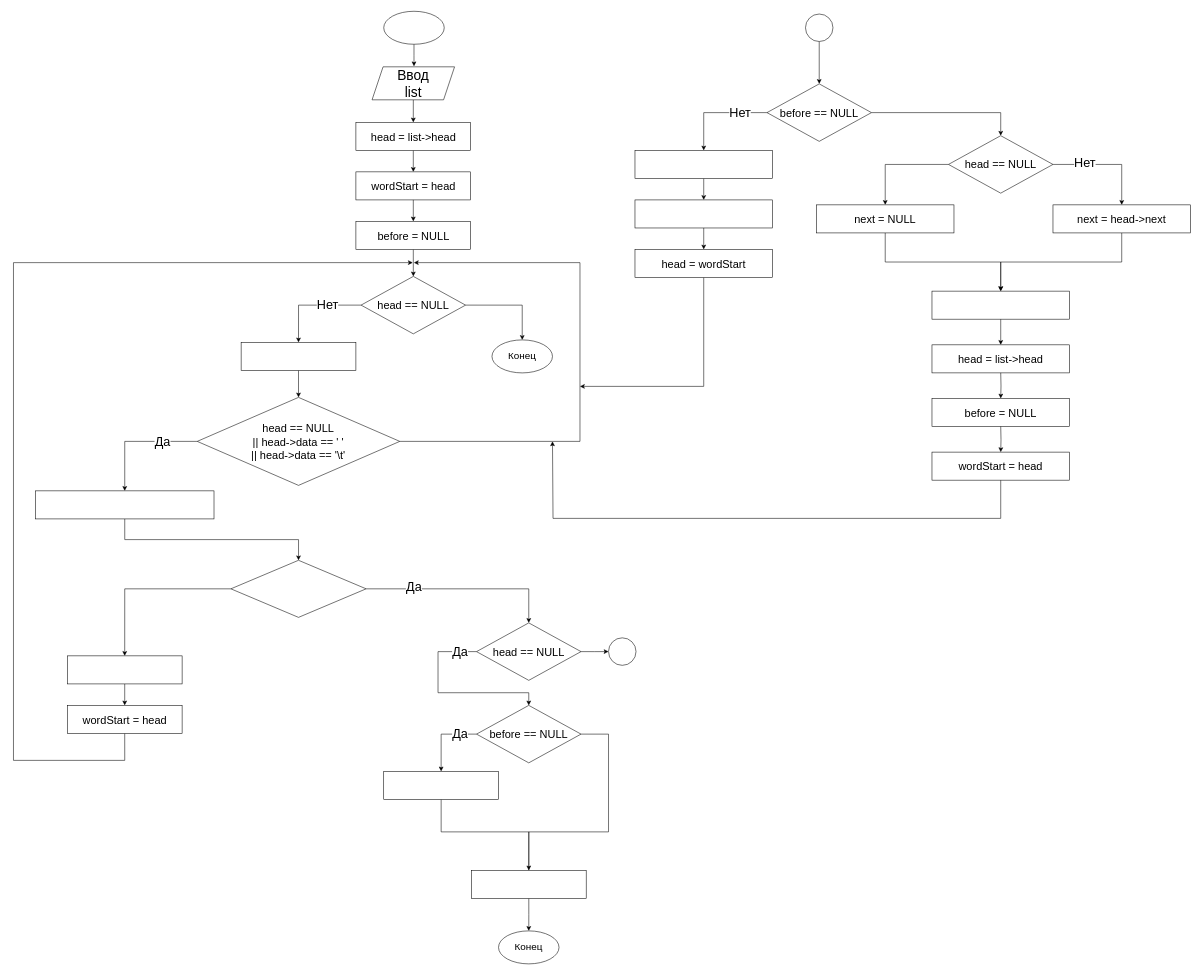
Image size: 1200x974. Some labels were removed from this diagram. The centre of each missing label's shape, as x and y in pixels:
before = head: pixel 124 669
before->next = head->next: pixel 703 164
before->next = NULL: pixel 528 884
delete vowels: pixel 413 27
head = head->next: pixel 298 356
list->head = next: pixel 1000 305
list->head = NULL: pixel 441 785
vc % 2 == 0 && vc > 0: pixel 298 588
vc = countVowels(wordStart, head): pixel 124 504
wordStart = head->next: pixel 703 213
